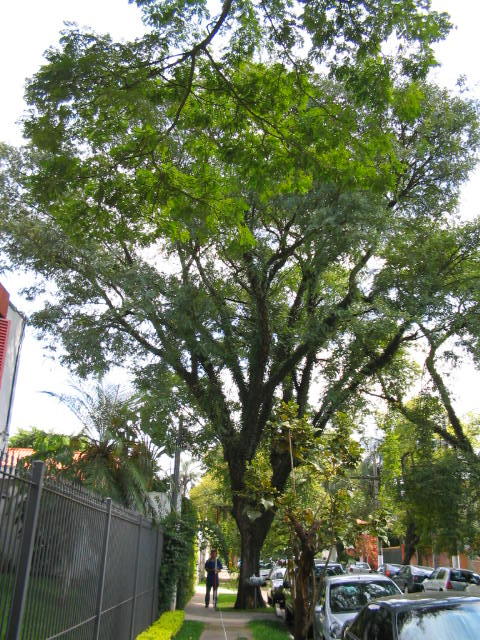crown: (23, 22, 477, 401)
stem: (230, 525, 274, 609)
stick: (209, 505, 224, 608)
tree: (20, 20, 477, 611)
